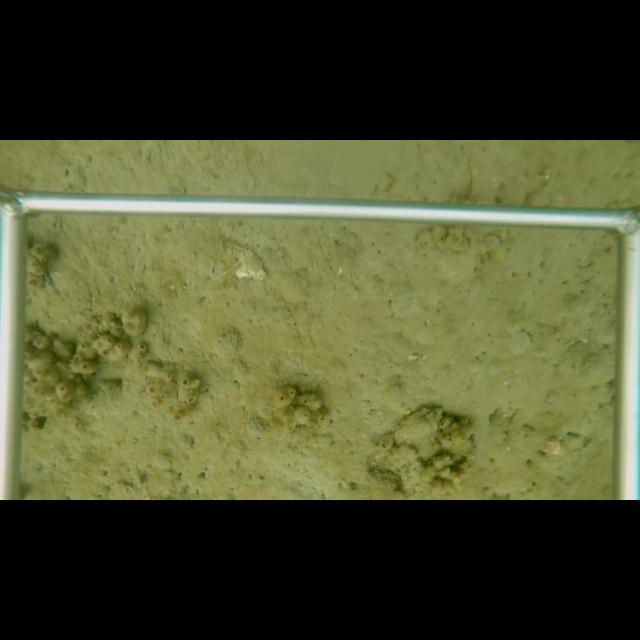Oyster-Closed: (392, 403, 445, 445)
